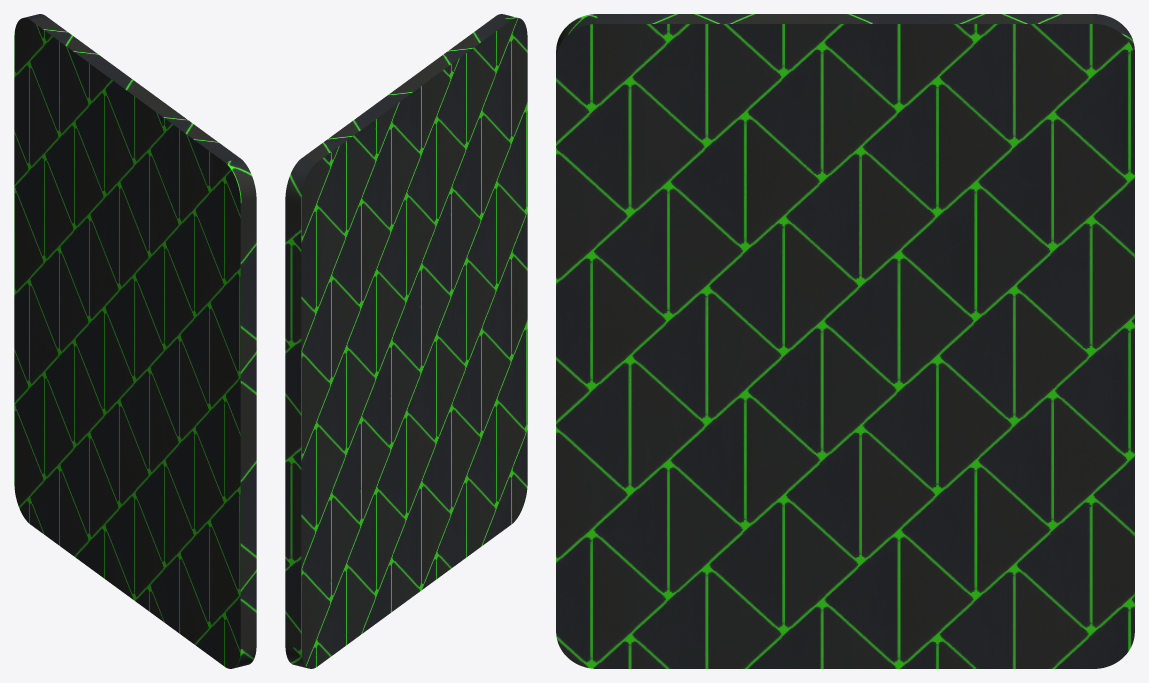
The model's file is card.glb.
3 views of the same model, side by side, from view 1: azimuth 30°, elevation 25°; view 2: azimuth 150°, elevation 25°; view 3: azimuth 270°, elevation 25° (orthographic). The views are drawn at different scales.
Visible parts, largest first — view 1: Cube; view 2: Cube; view 3: Cube.
Part boxes in pixels (x1=…): Cube: x1=14, y1=14, x2=256, y2=668; Cube: x1=285, y1=14, x2=527, y2=668; Cube: x1=556, y1=14, x2=1134, y2=668.
Size of the model in its own units: 0.1683 by 5.12 by 4.16.
Materials: 1 (1 with a texture image).
